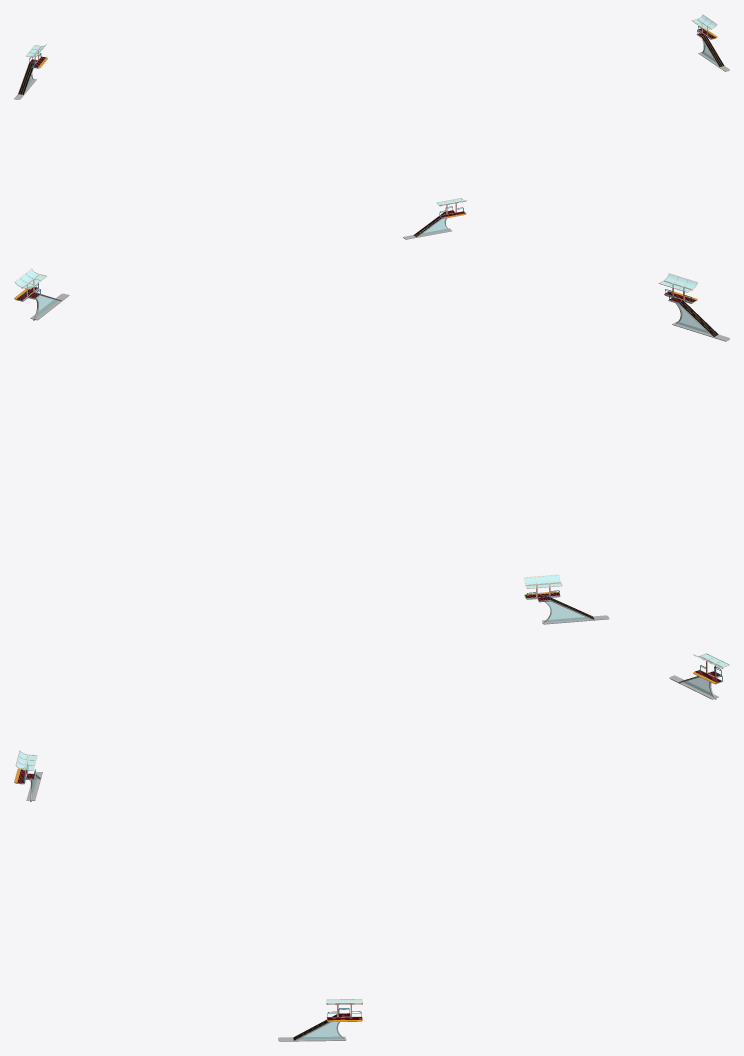
Rendered from stops.glb.
3 renders of one model, top to bottom at view 1: azimuth 30°, elevation 25°; view 2: azimuth 150°, elevation 25°; view 3: azimuth 270°, elevation 25°, orthographic. The views are drawn at different scales.
Parts seen in each view (by area): view 1: Stop_02, Stop_03, Stop_01; view 2: Stop_01, Stop_02, Stop_03; view 3: Stop_03, Stop_01, Stop_02.
Boxes of the visible parts, x1,y1,x2,y2 form: Stop_02: [403, 198, 466, 239]; Stop_03: [691, 14, 729, 71]; Stop_01: [14, 44, 47, 99]; Stop_01: [524, 574, 609, 624]; Stop_02: [658, 273, 729, 341]; Stop_03: [14, 268, 69, 320]; Stop_03: [278, 999, 362, 1041]; Stop_01: [669, 653, 729, 699]; Stop_02: [14, 750, 42, 801].
Size of what is drawn, in the model's own units: 195 by 10.52 by 159.
3 materials, 3 textured.
